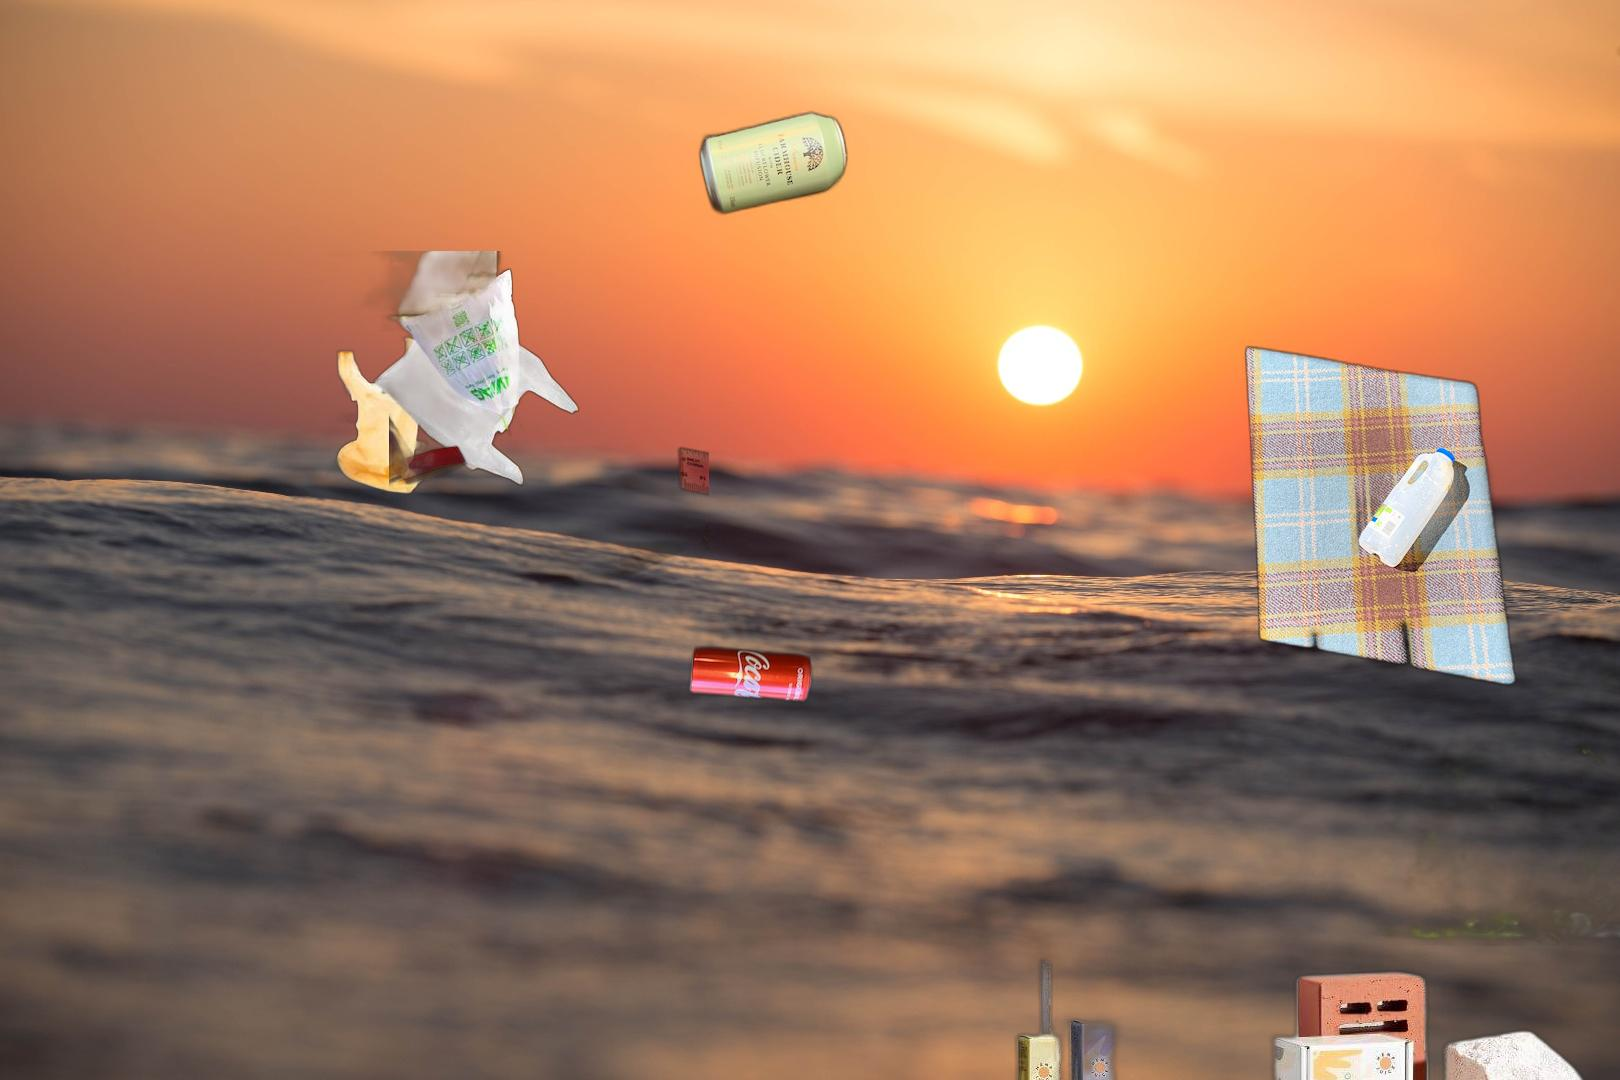biological: (1351, 546, 1620, 946)
metal-cans: (436, 106, 852, 589), (683, 640, 817, 708)
plastic-bag: (294, 251, 582, 551)
plastic-bottles: (1240, 340, 1521, 691)
trashbox-cardboard: (881, 927, 1620, 1080), (389, 413, 709, 653)
